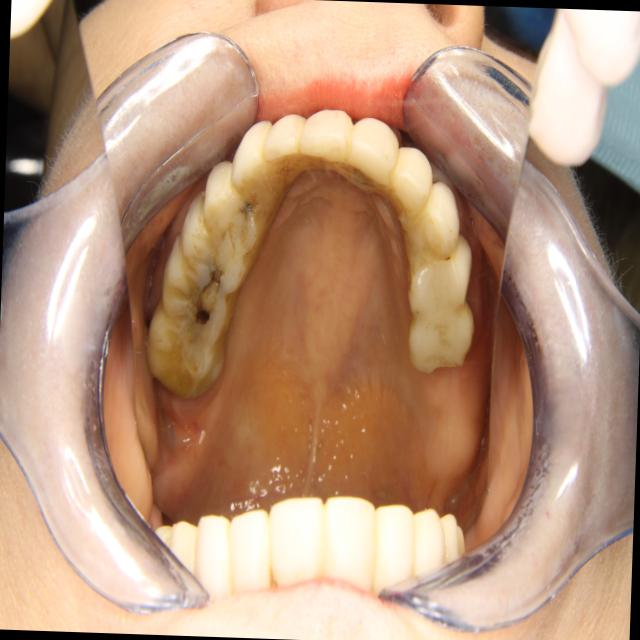tooth: (132, 286, 236, 407), (151, 217, 247, 338), (178, 192, 253, 310), (199, 158, 269, 284), (224, 110, 290, 227), (393, 169, 478, 258), (398, 292, 482, 378), (401, 224, 478, 315), (345, 100, 403, 213), (298, 101, 355, 194), (387, 133, 435, 235), (260, 102, 312, 194)
